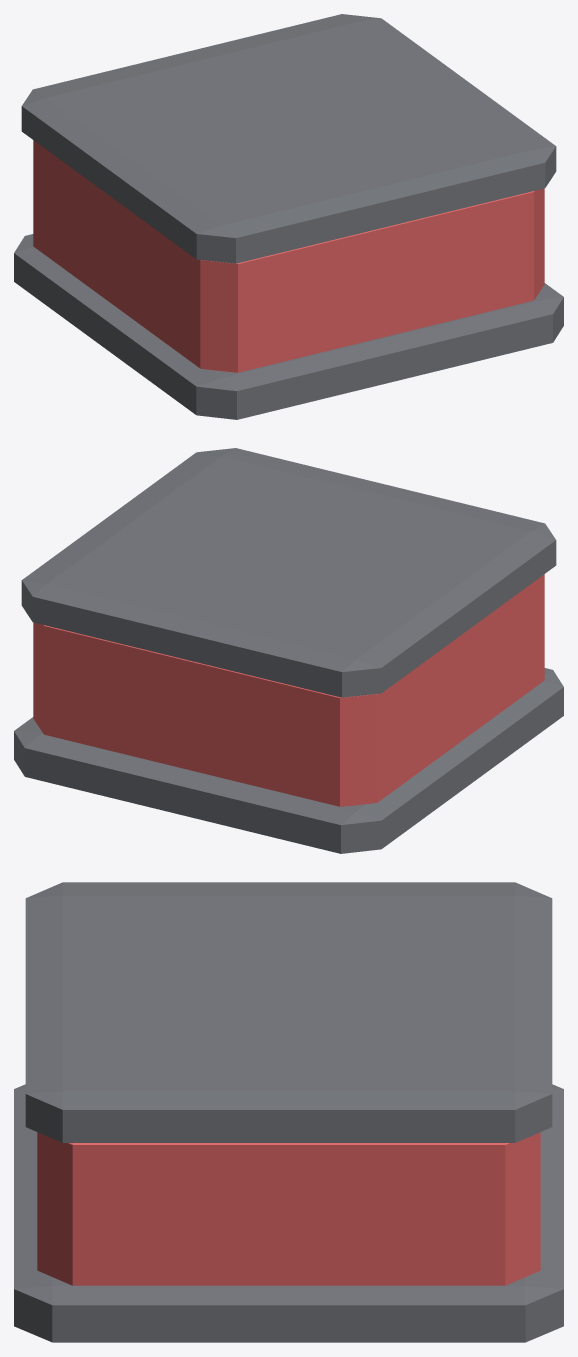
File: b11_steel_fire_bowl.glb
3 views of the same model, one above another, from view 1: azimuth 30°, elevation 25°; view 2: azimuth 150°, elevation 25°; view 3: azimuth 270°, elevation 25° (orthographic). The views are drawn at different scales.
Visible parts, largest first — view 1: b11_steel_fire_bowl; view 2: b11_steel_fire_bowl; view 3: b11_steel_fire_bowl.
Boxes of the visible parts, x1,y1,x2,y2 form: b11_steel_fire_bowl: (14,14,563,419); b11_steel_fire_bowl: (14,448,563,853); b11_steel_fire_bowl: (14,882,563,1342).
Bounding box in the file's own units: 1.02 × 0.481 × 1.02.
